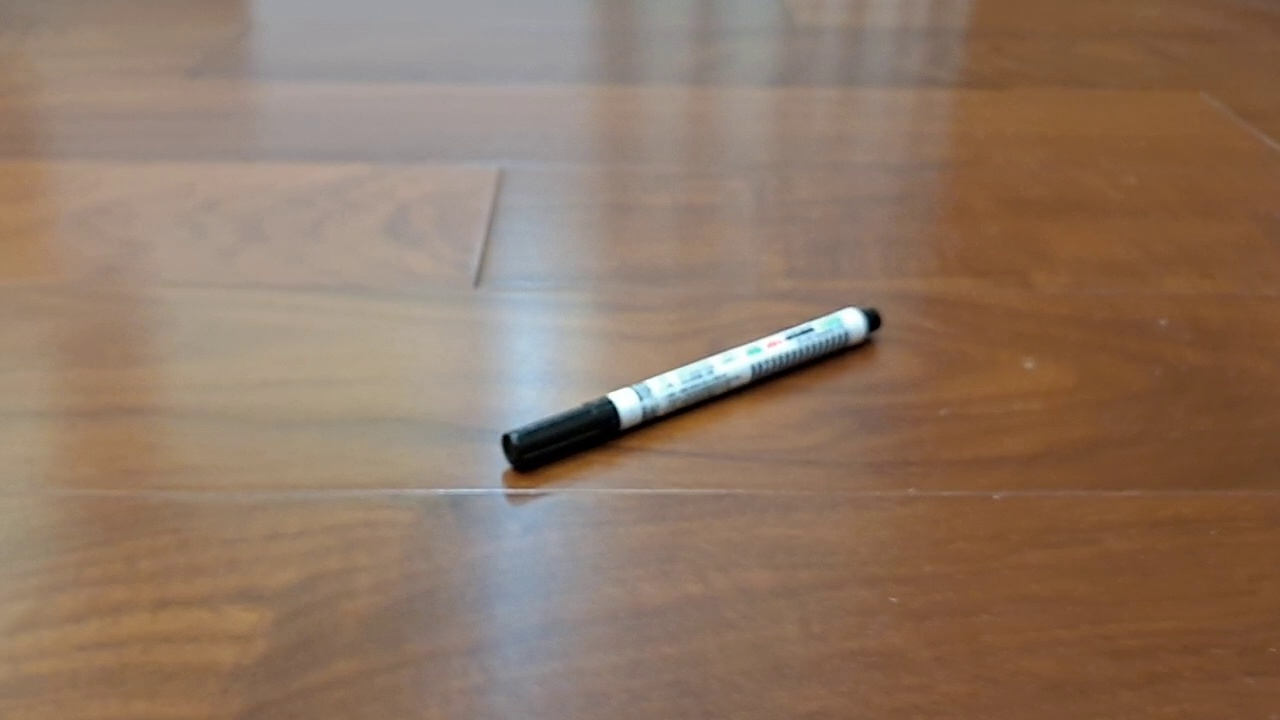pen: (500, 304, 882, 475)
